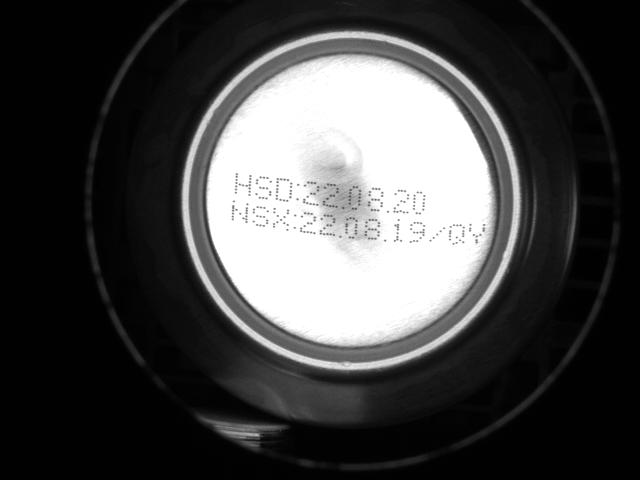.: (340, 193, 347, 211), (336, 221, 343, 239), (384, 196, 391, 214), (381, 226, 388, 244)
/: (426, 223, 445, 245)
0: (347, 183, 362, 212), (344, 212, 359, 241), (411, 190, 427, 215)
1: (391, 217, 406, 245)
2: (301, 177, 320, 207), (321, 179, 340, 209), (298, 207, 317, 237), (317, 209, 336, 239), (392, 186, 411, 216)
8: (366, 186, 385, 214), (362, 216, 381, 244)
9: (405, 220, 426, 245)
:: (295, 180, 301, 202), (292, 208, 298, 230)
D: (274, 176, 293, 203)
H: (232, 170, 253, 198)
N: (228, 197, 250, 225)
Q: (447, 223, 467, 248)
S: (253, 174, 274, 202), (250, 202, 271, 230)
X: (271, 204, 291, 232)
Y: (466, 220, 489, 247)
